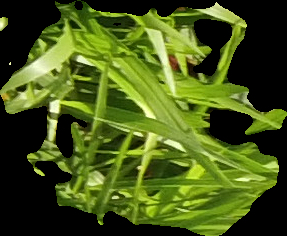grass: (1, 1, 285, 234)
